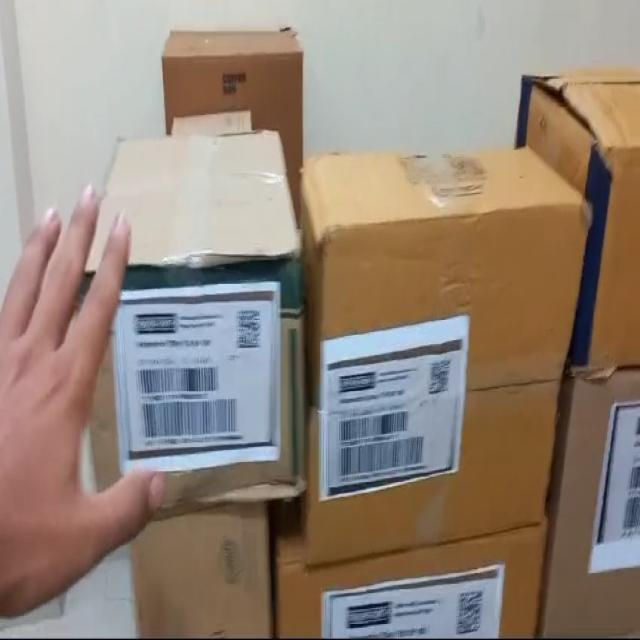BoxFace: (305, 156, 592, 555), (78, 252, 304, 500)
